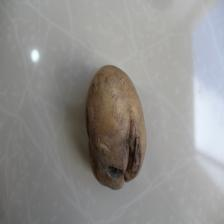Diseased-fungal potato: (85, 64, 148, 192)
